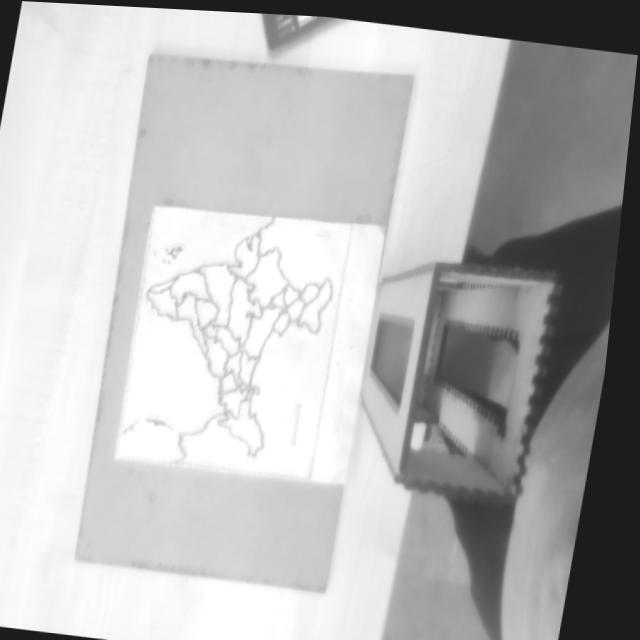map: (112, 191, 352, 488)
